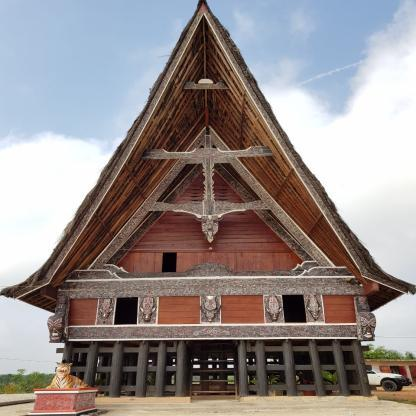Building Outline: (0, 0, 416, 397)
Deco: (57, 126, 364, 299), (68, 323, 358, 341), (140, 146, 275, 159), (47, 293, 70, 343), (354, 296, 377, 341), (137, 297, 159, 325), (304, 294, 325, 323), (95, 298, 117, 325), (200, 296, 221, 324), (263, 295, 284, 323)
Dont: (27, 362, 99, 416)
Facade: (68, 242, 348, 397)
Floor Slab: (61, 335, 369, 341), (65, 276, 356, 282)
Raised Floor: (61, 279, 369, 337)
Roof: (0, 0, 416, 299)
Top Floor: (68, 234, 353, 279)
Window: (114, 297, 139, 325), (282, 294, 306, 323), (162, 253, 177, 272)
